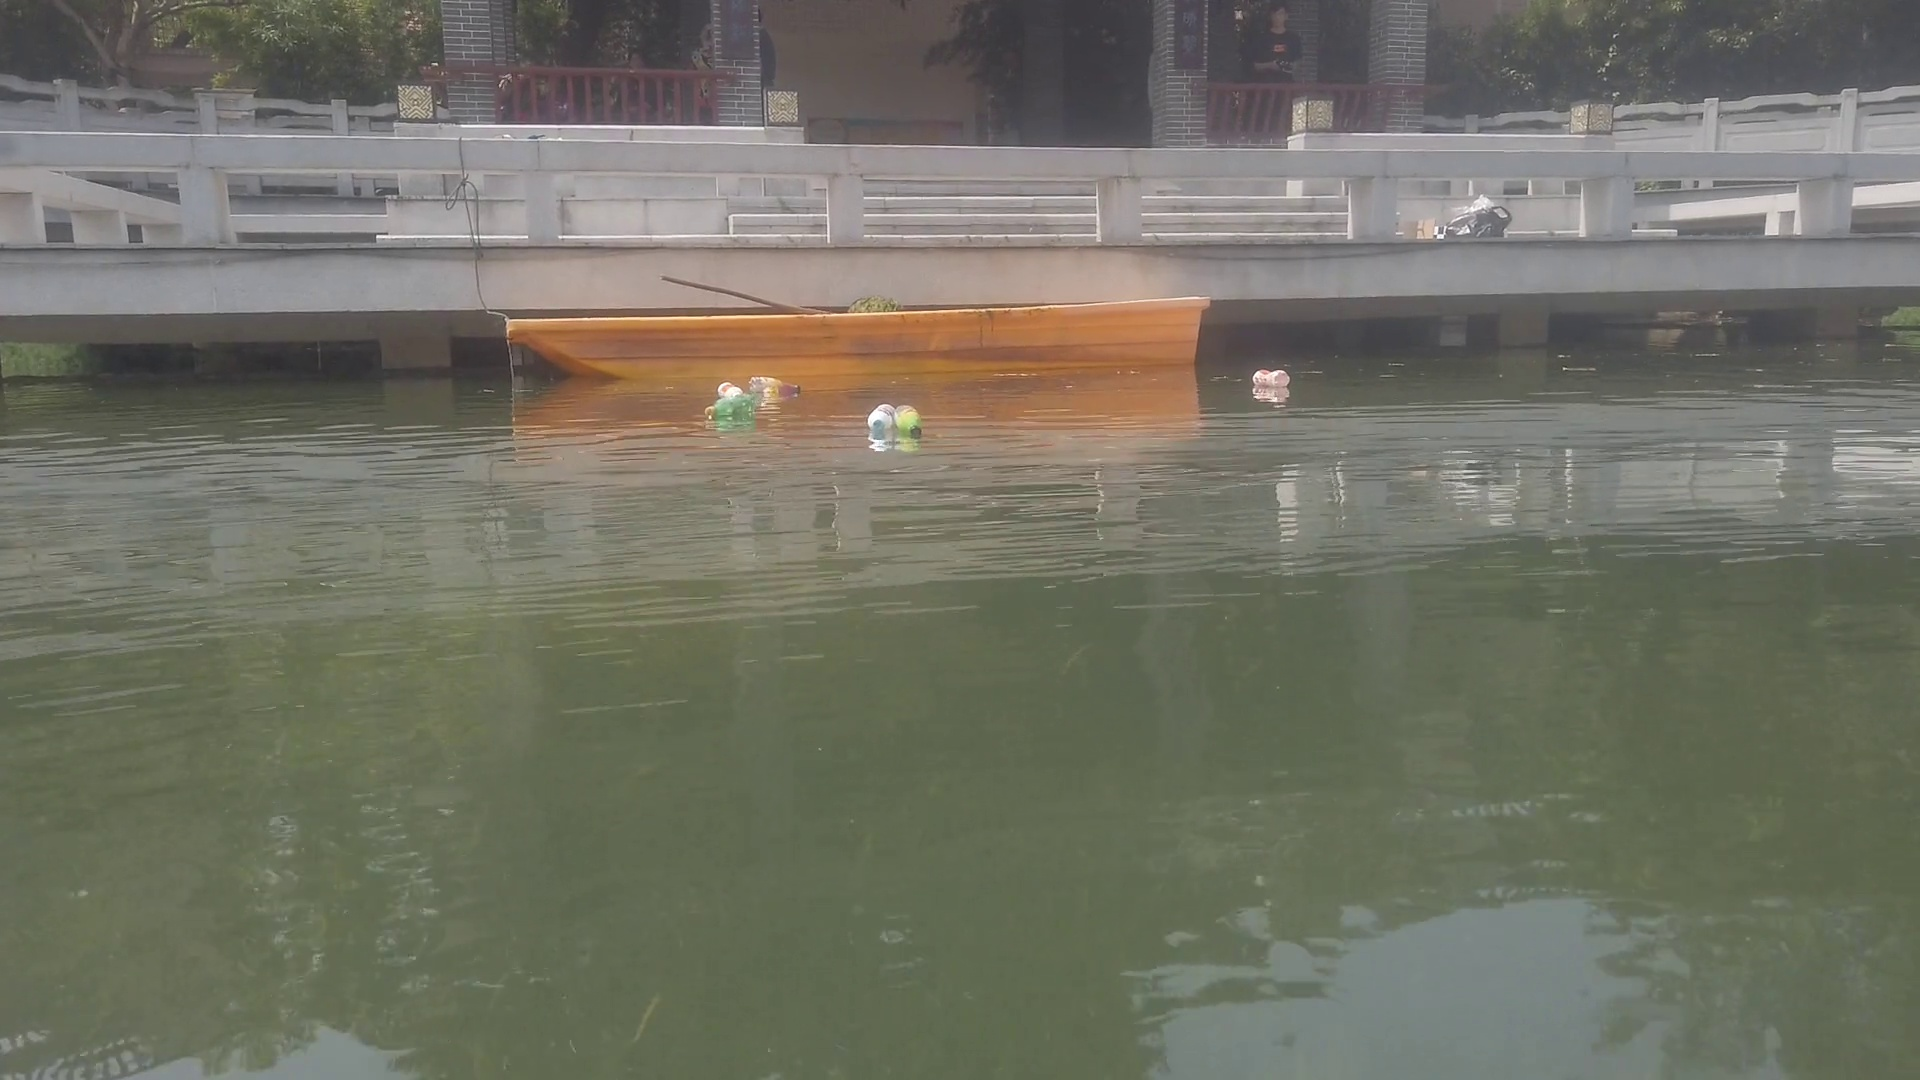bottle: (746, 375, 803, 401), (894, 407, 926, 439), (704, 398, 754, 415), (715, 378, 744, 406), (1251, 369, 1290, 389), (866, 402, 887, 435)
